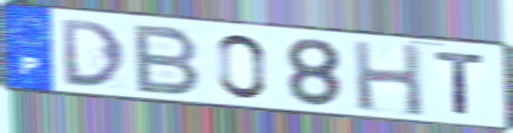0: (215, 32, 267, 100)
8: (284, 36, 345, 108)
B: (132, 22, 205, 98)
D: (58, 17, 129, 89)
H: (349, 38, 428, 119)
T: (432, 49, 489, 118)
